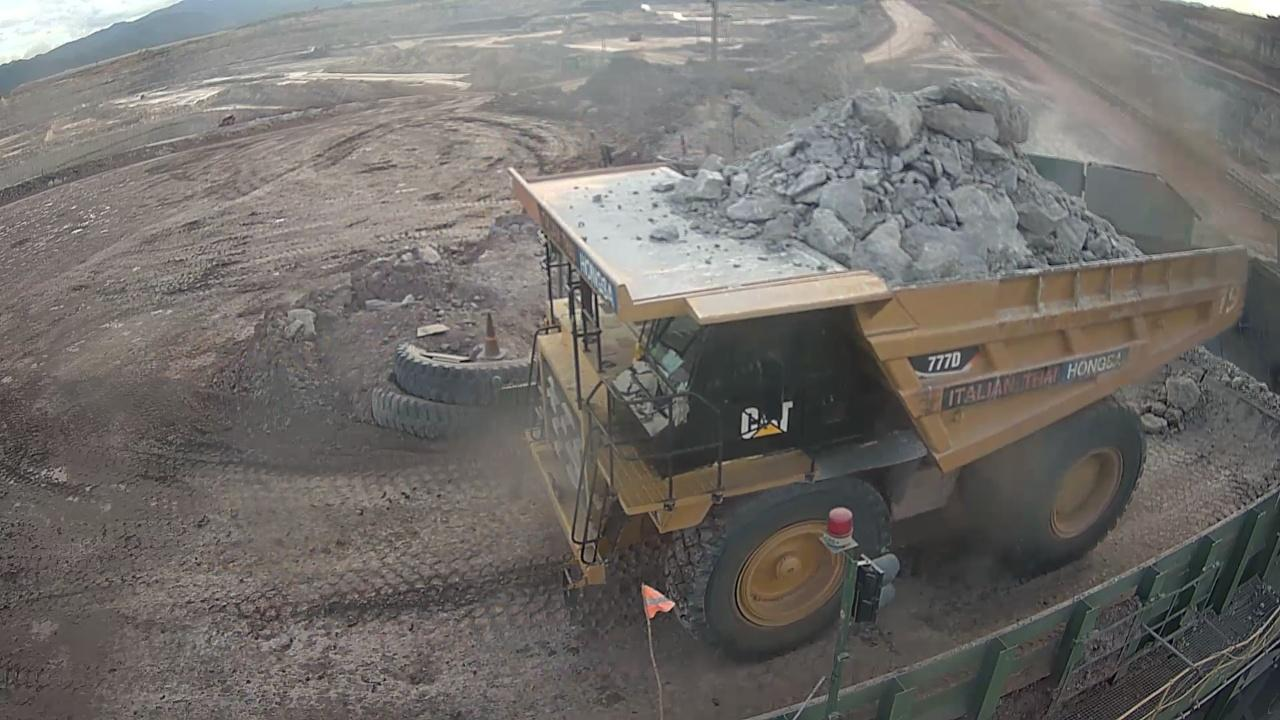full_load: (713, 77, 1146, 277)
mining_truck: (484, 70, 1256, 666)
truck_size: (920, 338, 970, 373)
